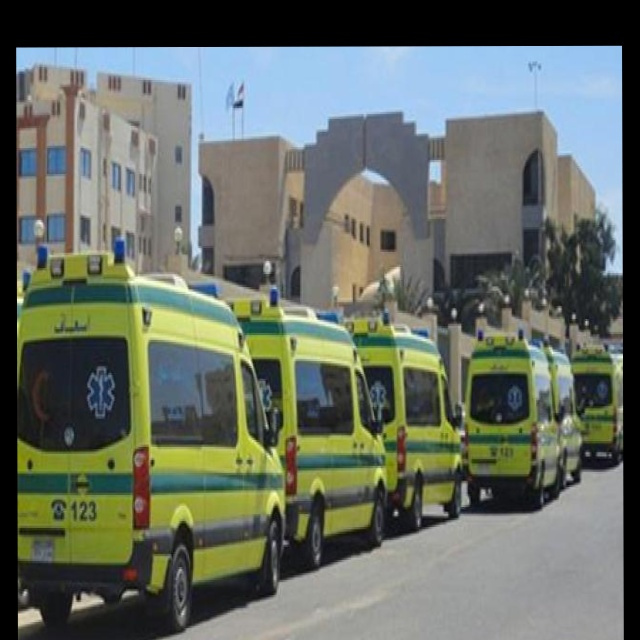Ambulance: (17, 237, 287, 631), (217, 283, 386, 569), (340, 306, 463, 532), (461, 326, 564, 507), (570, 341, 622, 465), (540, 341, 582, 485), (602, 339, 622, 452)
